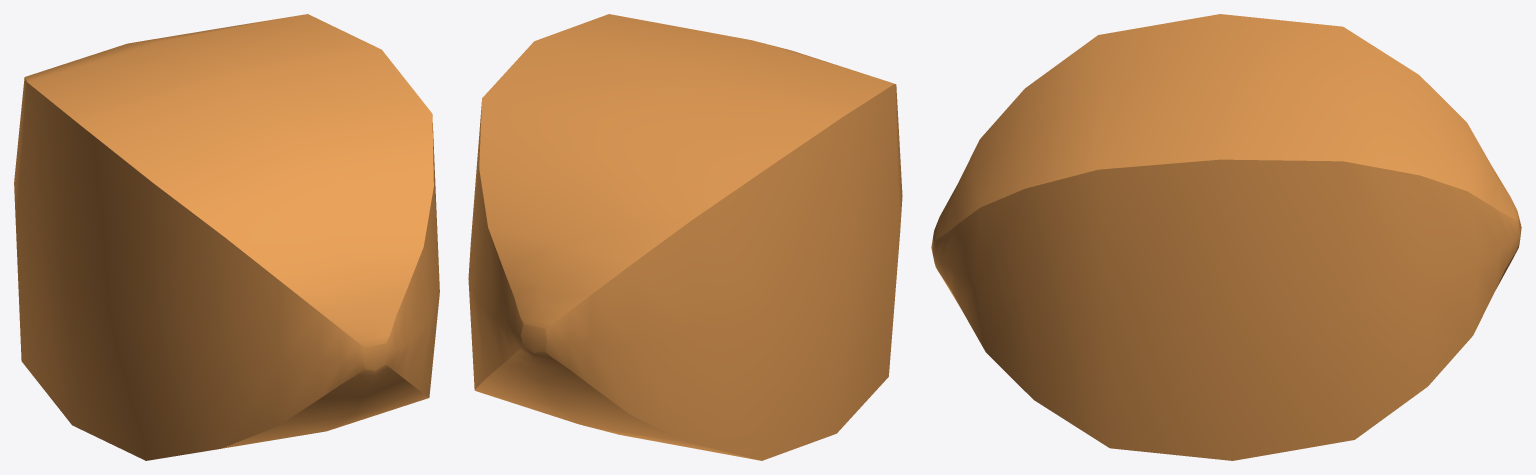
Rendered from potato.fbx.
3 renders of one model, left to right at view 1: azimuth 30°, elevation 25°; view 2: azimuth 150°, elevation 25°; view 3: azimuth 270°, elevation 25°, orthographic. The views are drawn at different scales.
Visible parts, largest first — view 1: pCube31; view 2: pCube31; view 3: pCube31.
Part boxes in pixels (x1=…): pCube31: x1=14, y1=14, x2=439, y2=460; pCube31: x1=468, y1=14, x2=902, y2=460; pCube31: x1=931, y1=14, x2=1521, y2=460.
Bounding box in the file's own units: 1.2 × 1.16 × 1.93.
